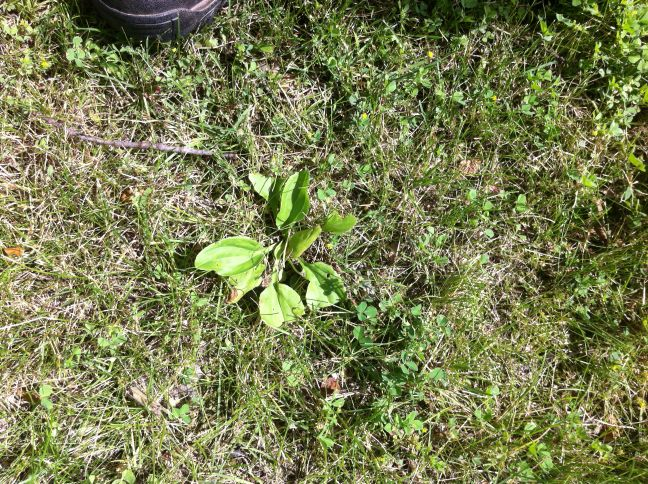weed1: (191, 166, 355, 330)
